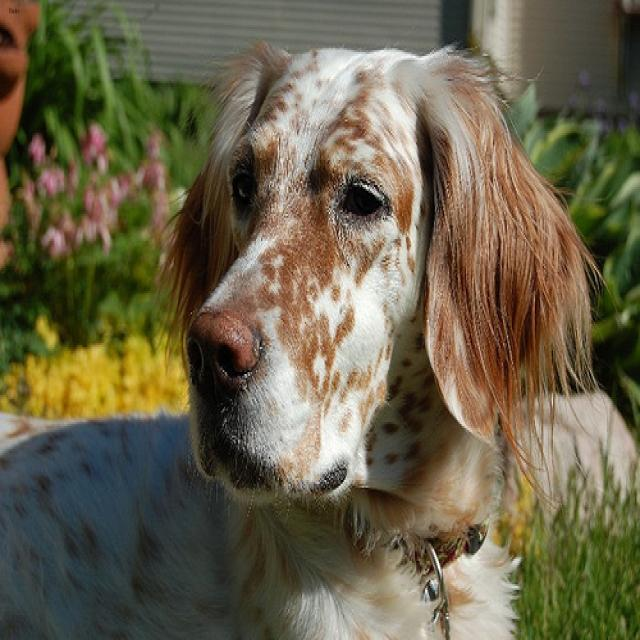dog-english_setter: (1, 12, 637, 636)
